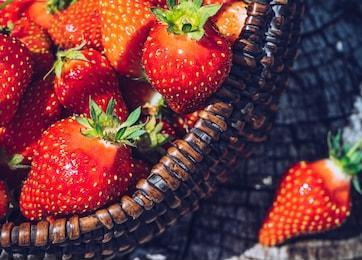Fresa: (15, 109, 139, 226), (139, 8, 236, 118), (252, 154, 355, 251), (50, 44, 134, 137)
